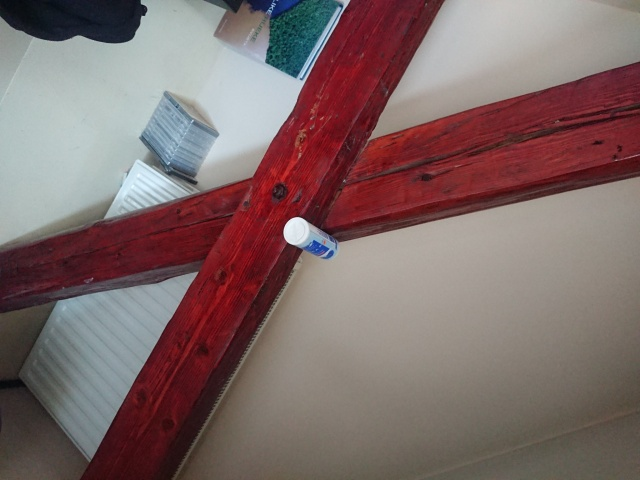Solana Pag Fine Sea Salt 250g: (280, 214, 342, 265)
